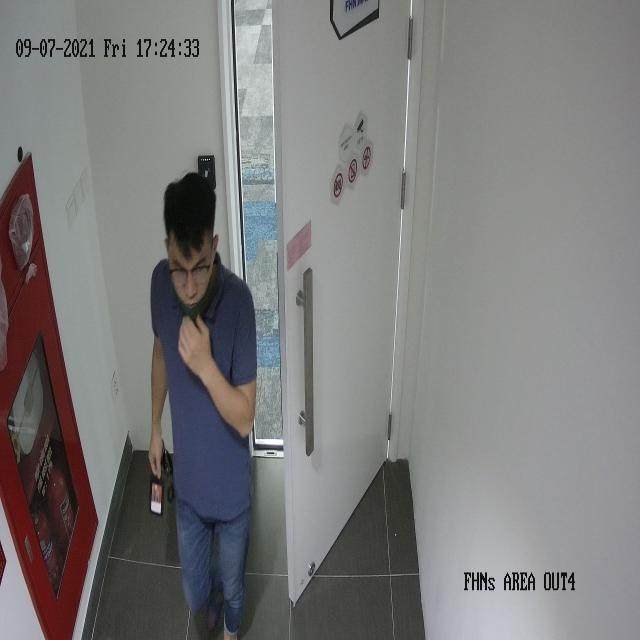hairnet: (168, 240, 210, 324)
